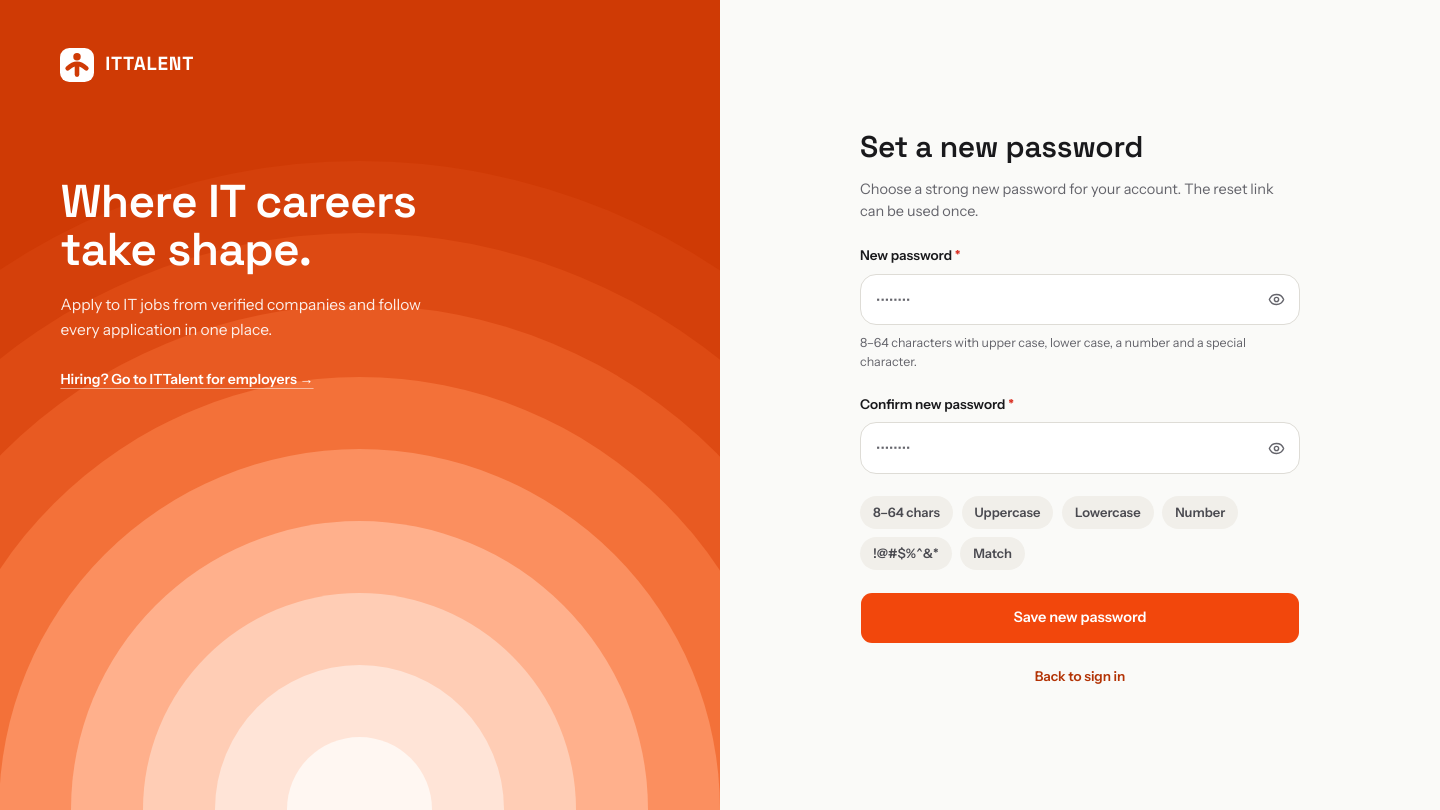
Test: ResetPasswordPage › shows a retry warning when the API rate limits the request
Type "Password123!" into the password field labelled "New password *". click: (1080, 300)
box: [860,274,1300,325]
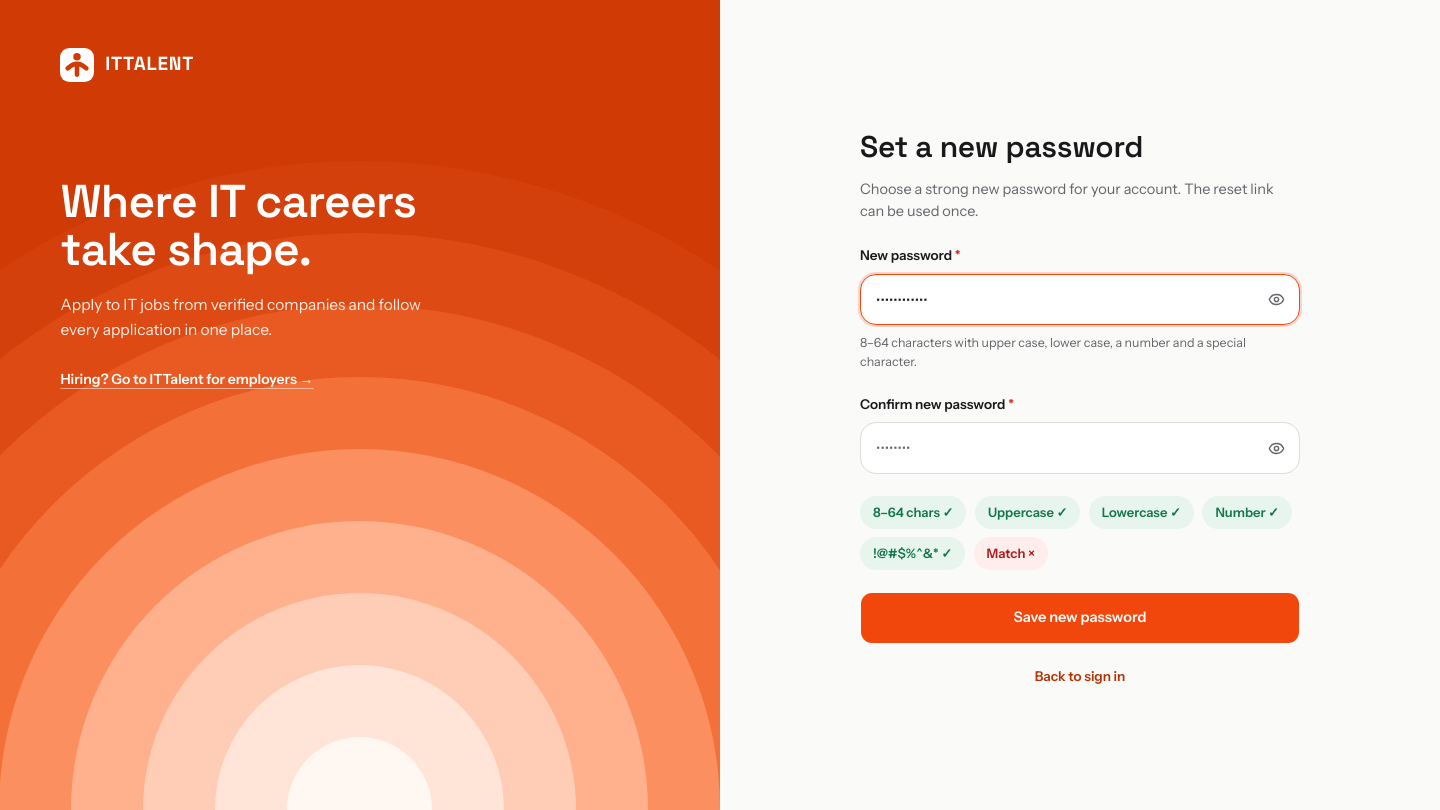
Type "Password123!" into the password field labelled "Confirm new password *". click: (1080, 448)
box: [860,422,1300,474]
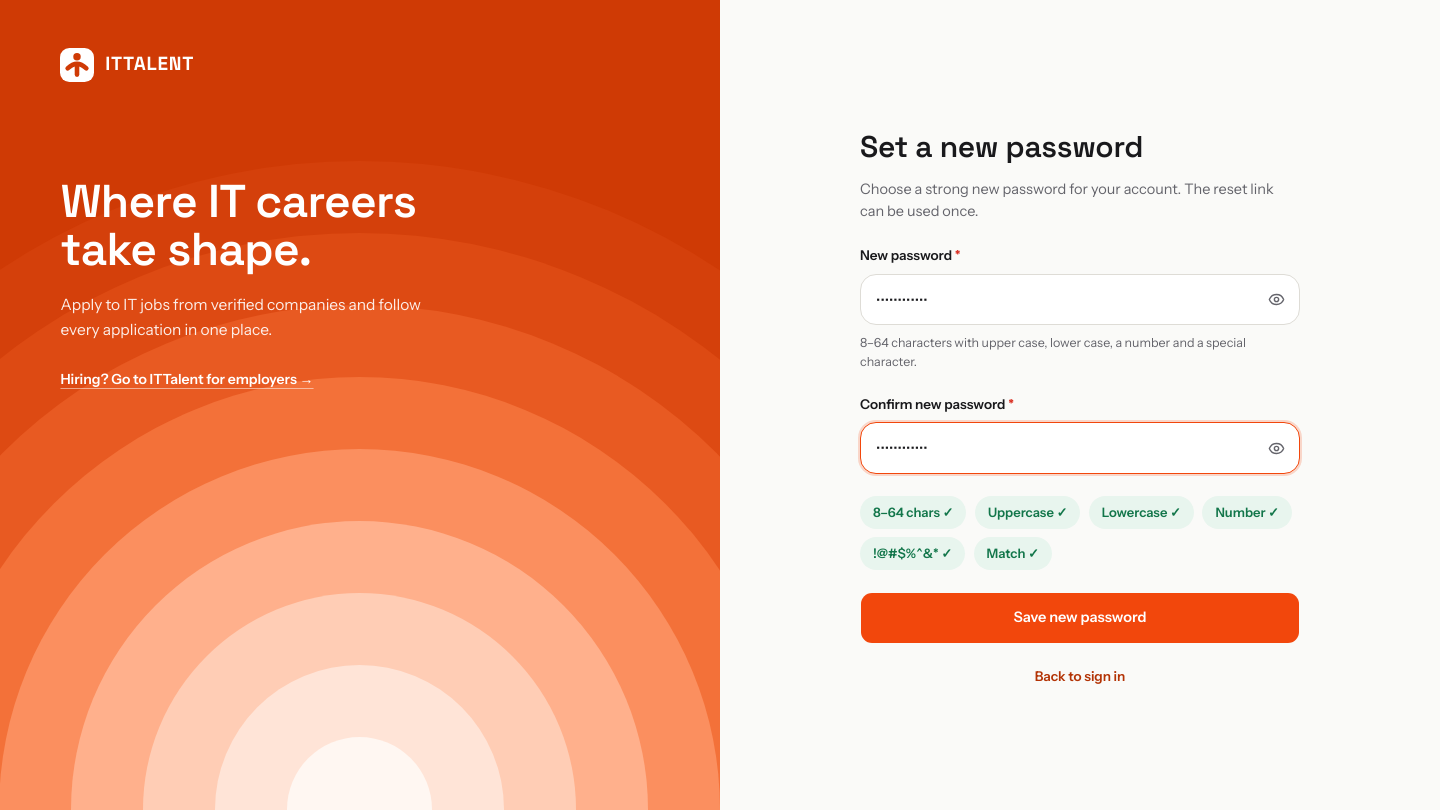
Click the button "Save new password". click: (1080, 618)
box: [860,592,1300,644]
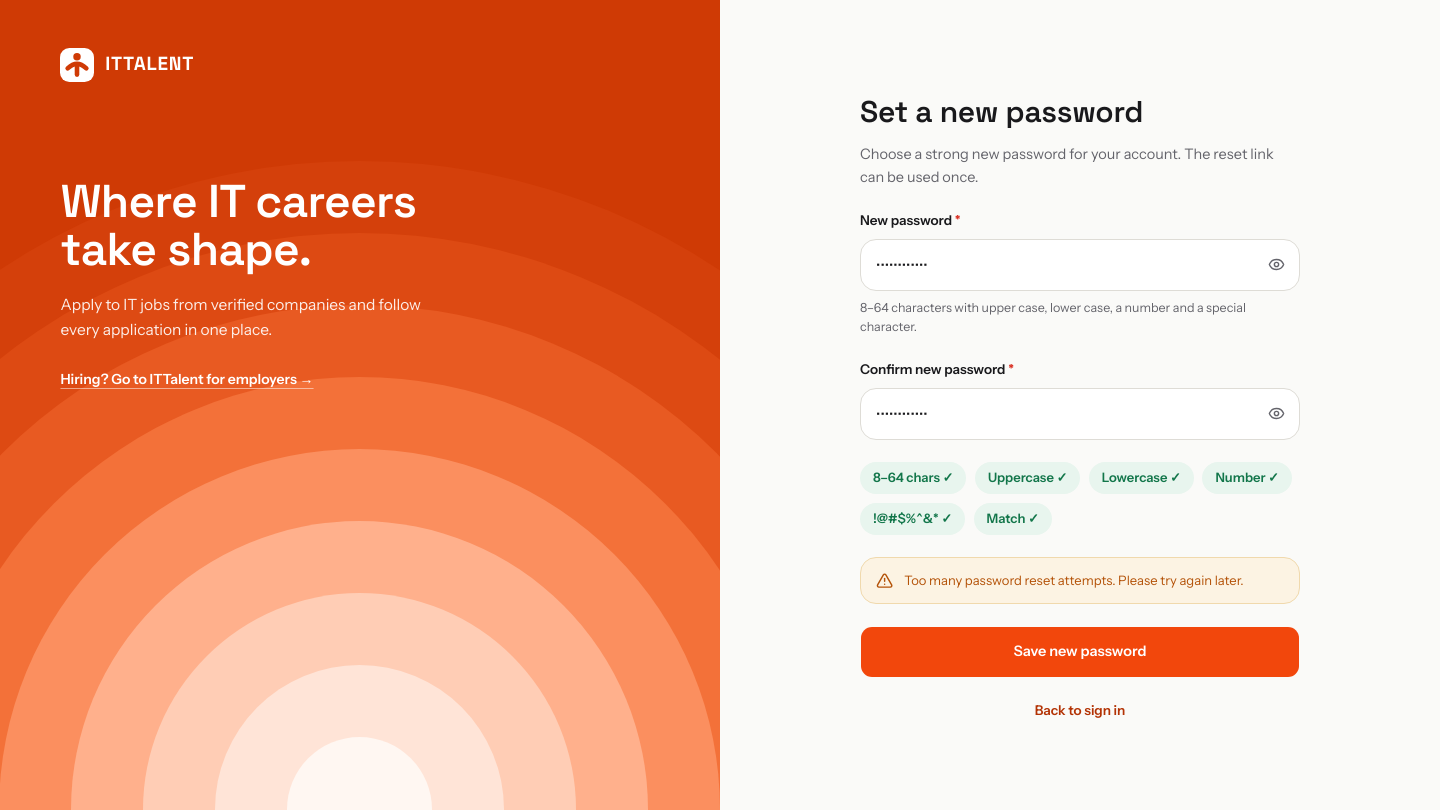
Now the text "Too many password reset attempts. Please try again later." is shown, box [904,571,1284,590]
